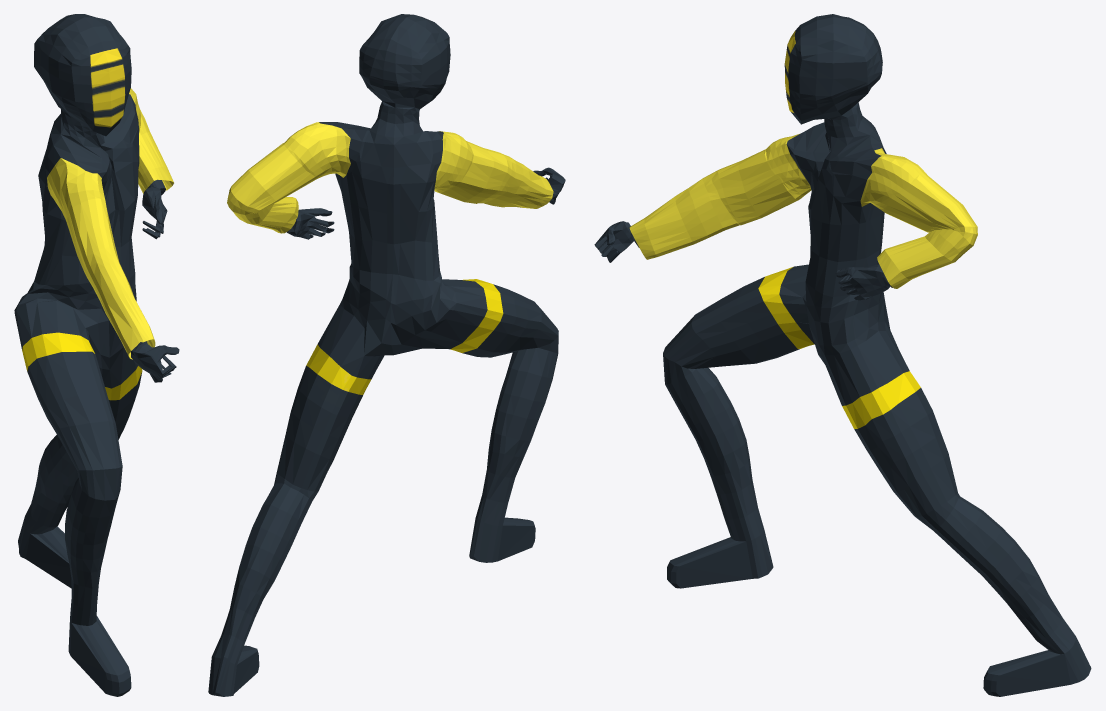
File: Sentry_WR_000009.obj
3 views of the same model, side by side, from view 1: azimuth 30°, elevation 25°; view 2: azimuth 150°, elevation 25°; view 3: azimuth 270°, elevation 25° (orthographic). The views are drawn at different scales.
Visible parts, largest first — view 1: Cube; view 2: Cube; view 3: Cube.
Part boxes in pixels (<box>): Cube: <box>14,14,179,696</box>; Cube: <box>208,14,565,696</box>; Cube: <box>594,14,1091,696</box>.
Size of the model in its own units: 1.2 by 3.62 by 2.57.
